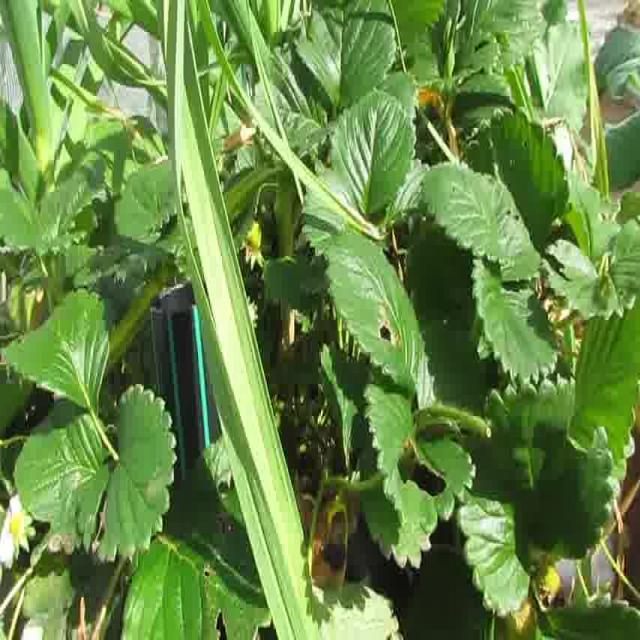Fruta sana: (502, 593, 538, 640), (530, 562, 562, 598), (246, 220, 262, 250), (10, 512, 22, 536)
